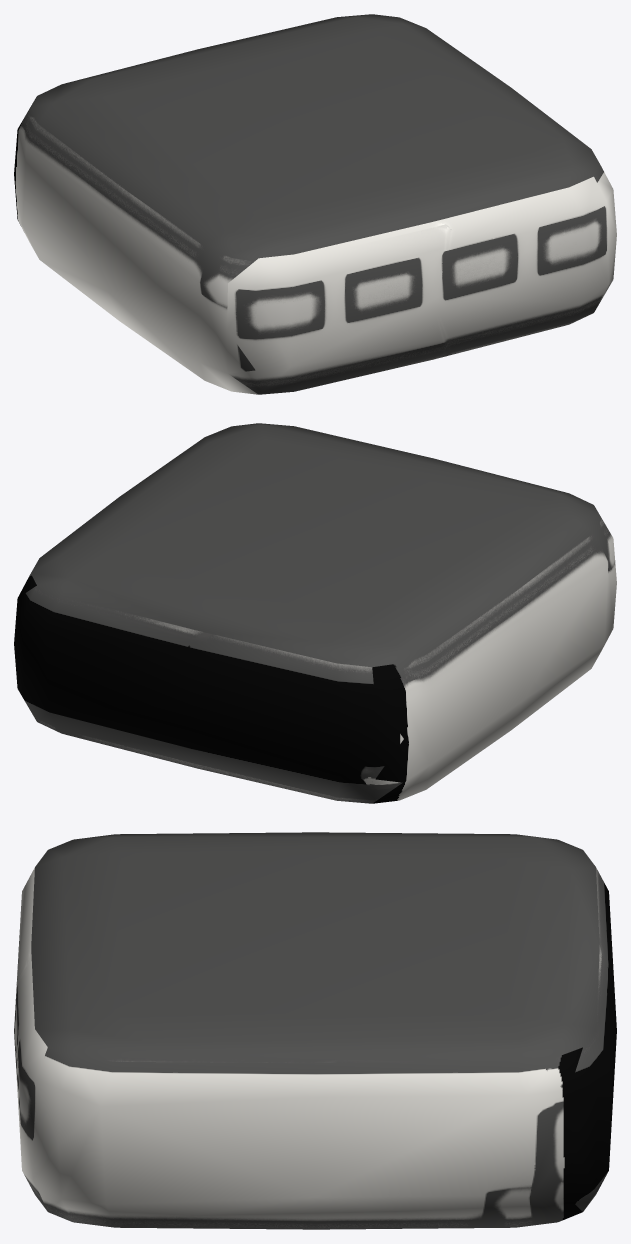
Rendered from Centinela_GuanteDer.fbx.
The picture shows the model from 3 angles, top to bottom: view 1: azimuth 30°, elevation 25°; view 2: azimuth 150°, elevation 25°; view 3: azimuth 270°, elevation 25°; orthographic projection. The views are drawn at different scales.
Parts seen in each view (by area): view 1: Centinela_GuanteDer; view 2: Centinela_GuanteDer; view 3: Centinela_GuanteDer.
Boxes of the visible parts, box(x1,y1,x2,y2) form: Centinela_GuanteDer: box(14, 14, 616, 394); Centinela_GuanteDer: box(14, 423, 616, 803); Centinela_GuanteDer: box(14, 832, 616, 1229).
Size of the model in its own units: 1.07 by 0.4001 by 1.11.
